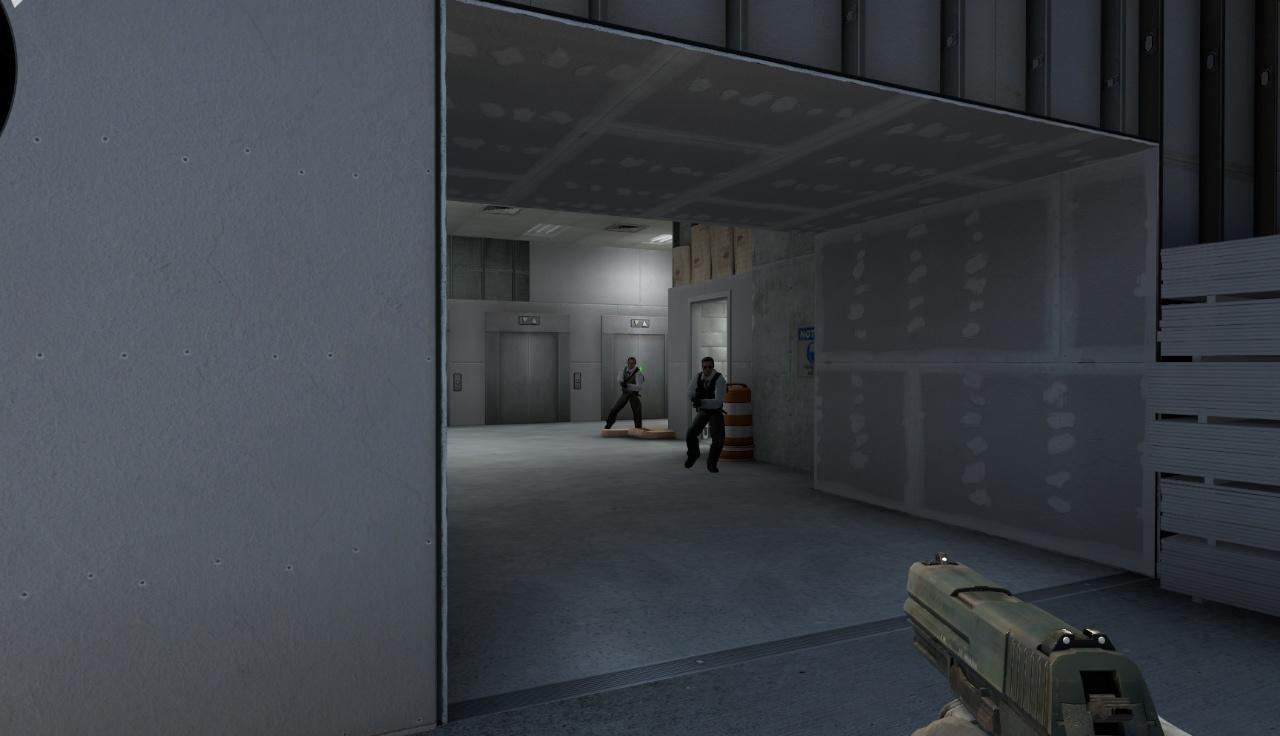pistol: (905, 553, 1157, 736)
tt: (686, 357, 724, 472), (618, 358, 643, 430)
tthead: (701, 357, 715, 375), (627, 357, 637, 369)
